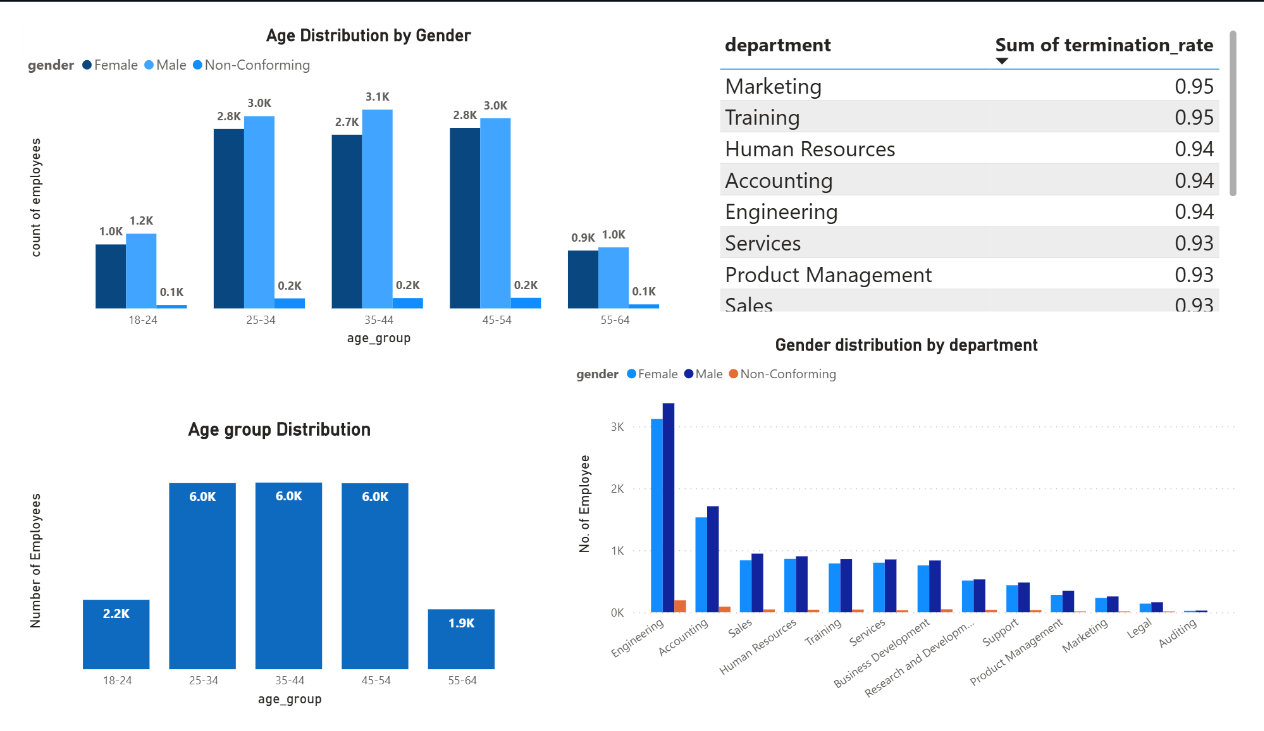

The dashboard page shown, as its layout file describes it:
{"tool":"powerbi","page":{"name":"Page 2","canvas":[1280,720],"ordinal":1},"visuals":[{"type":"columnChart","title":"Age group Distribution","fields":{"Category":["agegroup gender.age_group"],"Y":["Sum(agegroup gender.count)"]},"box":[0,413,539.3,307.4],"z":0},{"type":"clusteredColumnChart","title":"Age Distribution by Gender","fields":{"Category":["agegroup gender.age_group"],"Y":["Sum(agegroup gender.count)"],"Series":["agegroup gender.gender"]},"box":[0,0,725.9,341.7],"z":1000},{"type":"tableEx","fields":{"Values":["turnover_rate.department","Sum(turnover_rate.termination_rate)"]},"box":[725.9,0,554.4,306],"z":2000},{"type":"clusteredColumnChart","title":"Gender distribution by department","fields":{"Category":["gender_dept.department"],"Series":["gender_dept.gender"],"Y":["Sum(gender_dept.count)"]},"box":[576.3,325.2,703.9,395.2],"z":3000}]}

Visuals, with their boxes in screenshot pixels (x1, y1, x2, y2), scaled from the page's 1280x720 canvas onto the 1264x731 screenshot:
"Age group Distribution" columnChart: detection(0, 419, 533, 730)
"Age Distribution by Gender" clusteredColumnChart: detection(0, 0, 717, 347)
tableEx - turnover_rate.department x Sum(turnover_rate.termination_rate): detection(717, 0, 1263, 311)
"Gender distribution by department" clusteredColumnChart: detection(569, 330, 1263, 730)
